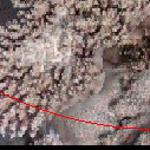alive: (5, 1, 148, 145)
